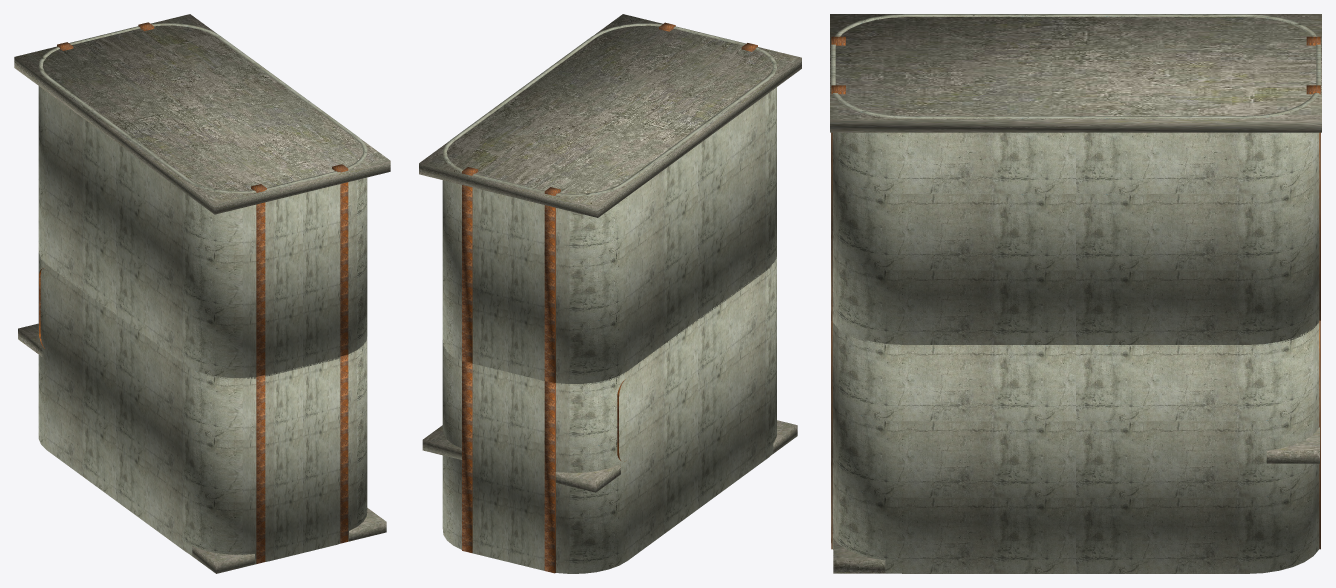
File: mdl_stairsBlock_start.obj
The picture shows the model from 3 angles, left to right: view 1: azimuth 30°, elevation 25°; view 2: azimuth 150°, elevation 25°; view 3: azimuth 270°, elevation 25°; orthographic projection. The views are drawn at different scales.
Visible parts, largest first — view 1: Rectangle001, Rectangle003, Box011, Box006, Box015, Box005, Box002, Box014, Box001; view 2: Rectangle001, Rectangle003, Box011, Box003, Box013, Box004, Box012, Box001, Box002; view 3: Rectangle001, Rectangle003, Box011, Box001, Box002.
Part boxes in pixels (x1,y1,x2,y2): Rectangle001: (38, 253, 367, 563); Rectangle003: (38, 23, 367, 378); Box011: (14, 14, 390, 214); Box006: (256, 375, 265, 563); Box015: (251, 184, 266, 376); Box005: (340, 355, 348, 543); Box002: (189, 508, 386, 573); Box014: (332, 164, 348, 356); Box001: (18, 323, 42, 356); Rectangle001: (442, 257, 776, 573); Rectangle003: (442, 23, 776, 385); Box011: (419, 14, 801, 217); Box003: (544, 381, 555, 573); Box013: (544, 187, 560, 383); Box004: (462, 361, 472, 553); Box012: (462, 167, 478, 363); Box001: (422, 425, 620, 492); Box002: (772, 420, 797, 454); Rectangle001: (831, 314, 1319, 573); Rectangle003: (831, 14, 1320, 346); Box011: (830, 14, 1321, 132); Box001: (1266, 427, 1319, 463); Box002: (833, 538, 894, 573).
Bounding box in the file's own units: 2.07 × 4.2 × 4.08.
